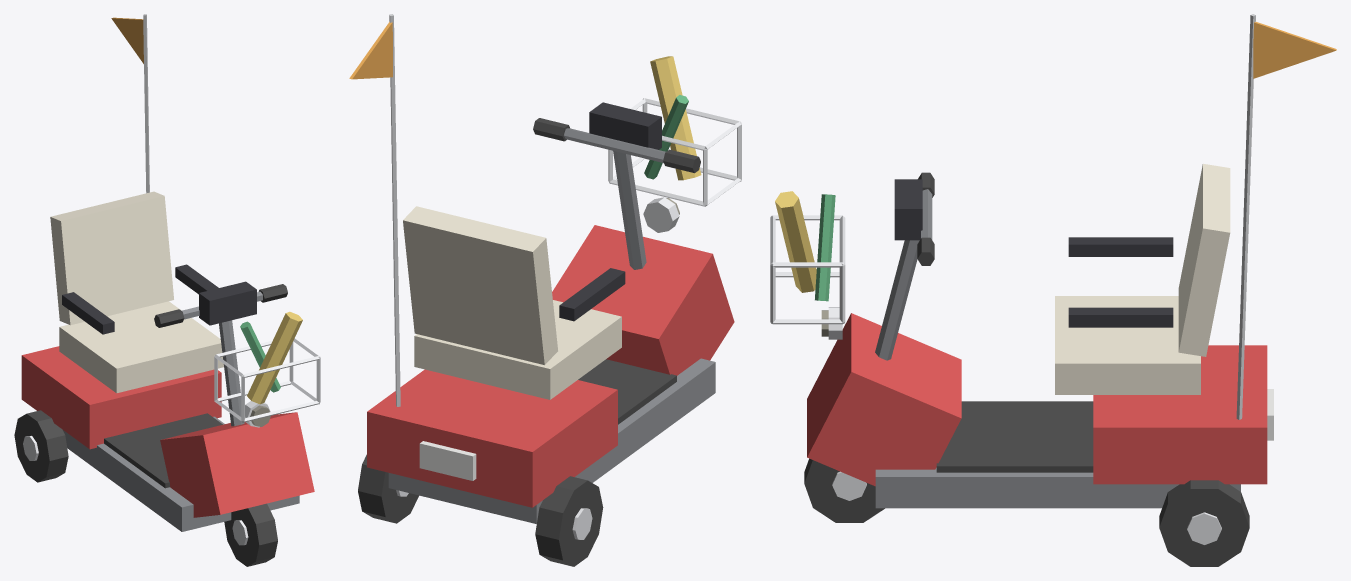
Rendered from HJ_MotoMovilidad.fbx.
The picture shows the model from 3 angles, left to right: view 1: azimuth 30°, elevation 25°; view 2: azimuth 150°, elevation 25°; view 3: azimuth 270°, elevation 25°; orthographic projection. The views are drawn at different scales.
Visible parts, largest first — view 1: HJ_MotoMovilidad; view 2: HJ_MotoMovilidad; view 3: HJ_MotoMovilidad.
Part boxes in pixels (x1,y1,x2,y2): HJ_MotoMovilidad: [14, 14, 320, 566]; HJ_MotoMovilidad: [349, 14, 741, 566]; HJ_MotoMovilidad: [770, 14, 1336, 566].
Size of the model in its own units: 0.7 by 1.69 by 1.63.
